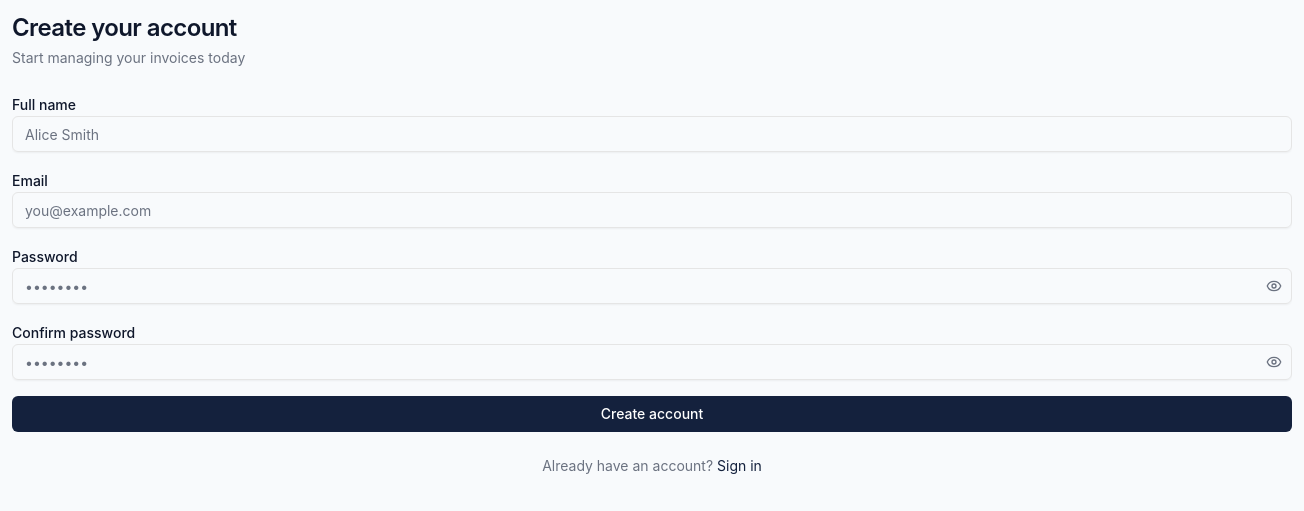
Test case: RegisterForm › shows password validation error when password is too short
The width and height of the screenshot is (1304, 511).
Step 1. Type "Alice" into the field labelled "Full name" → (652, 134), box left=12, top=116, right=1292, bottom=152
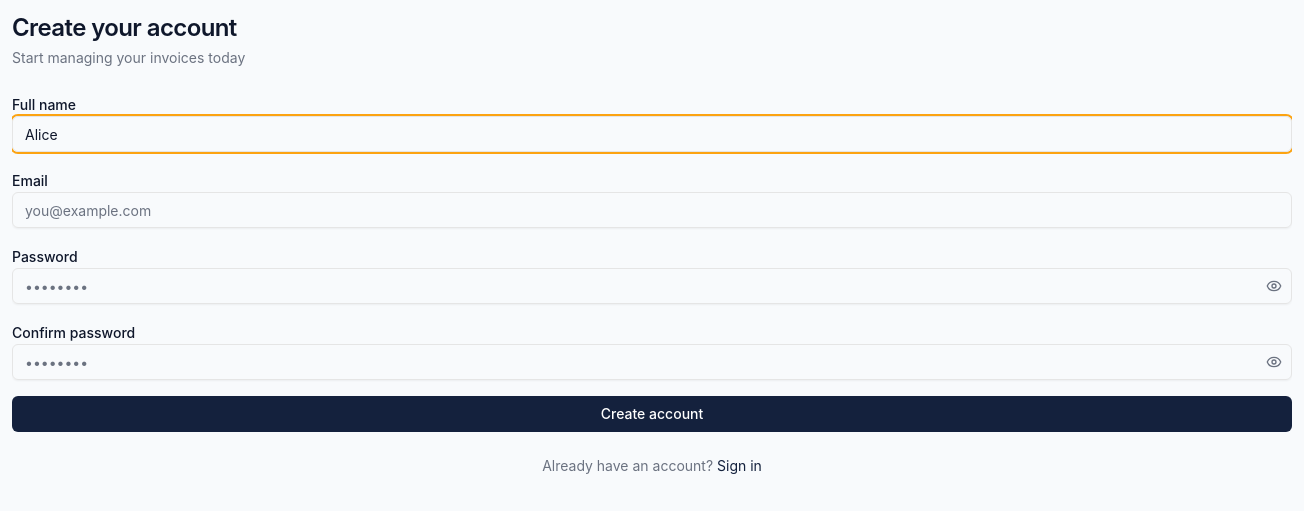
Step 2. Type "alice@example.com" into the field labelled "Email" → (652, 210), box left=12, top=192, right=1292, bottom=228
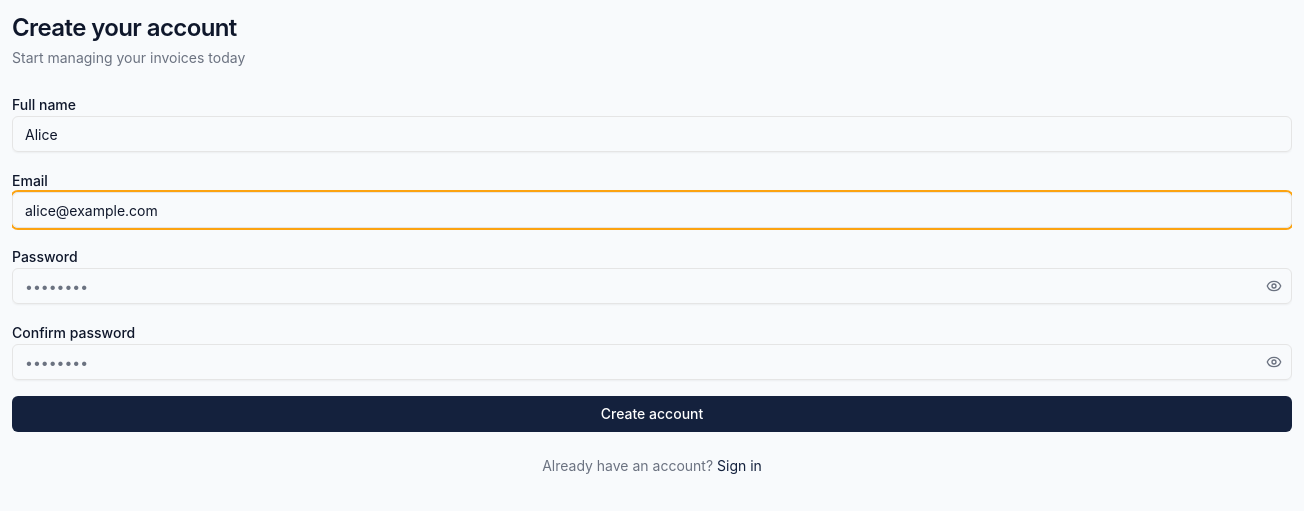
Step 3. Type "abc" into the password field labelled "Password" → (652, 286), box left=12, top=268, right=1292, bottom=304
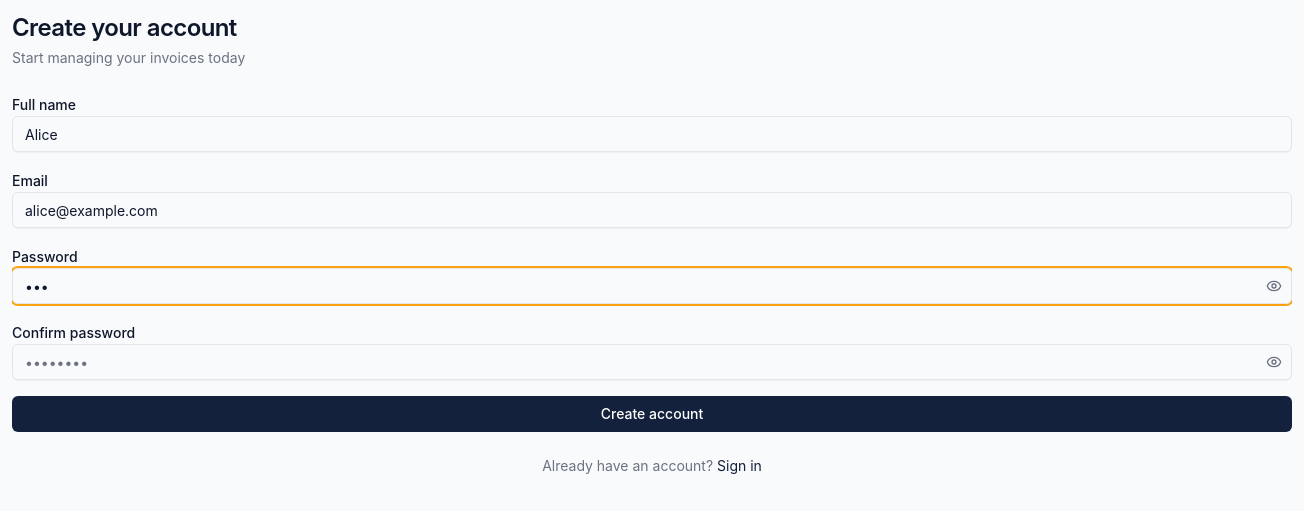
Step 4. Type "abc" into the password field labelled "Confirm password" → (652, 362), box left=12, top=344, right=1292, bottom=380
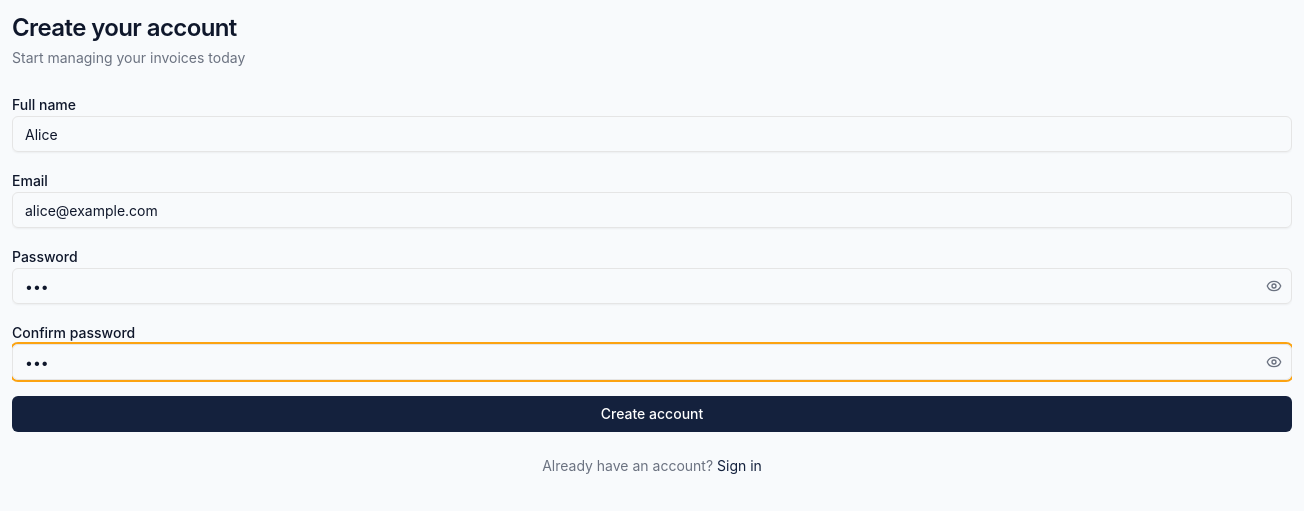
Step 5. Click the button "Create account" → (652, 414), box left=12, top=396, right=1292, bottom=432
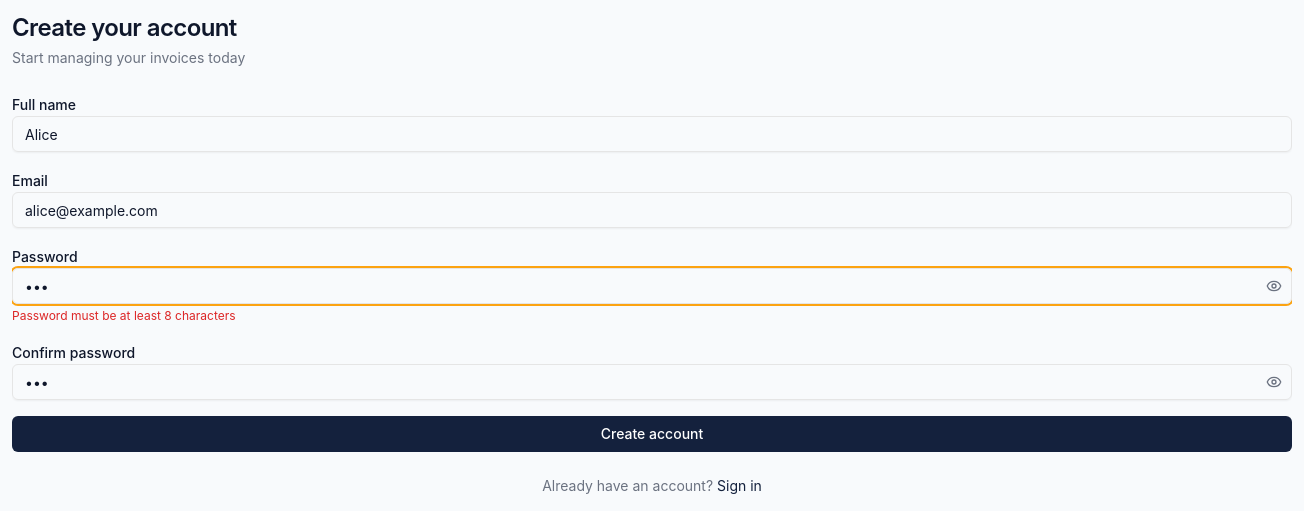
Now the message "Password must be at least 8 characters" is shown, box left=12, top=308, right=236, bottom=323
